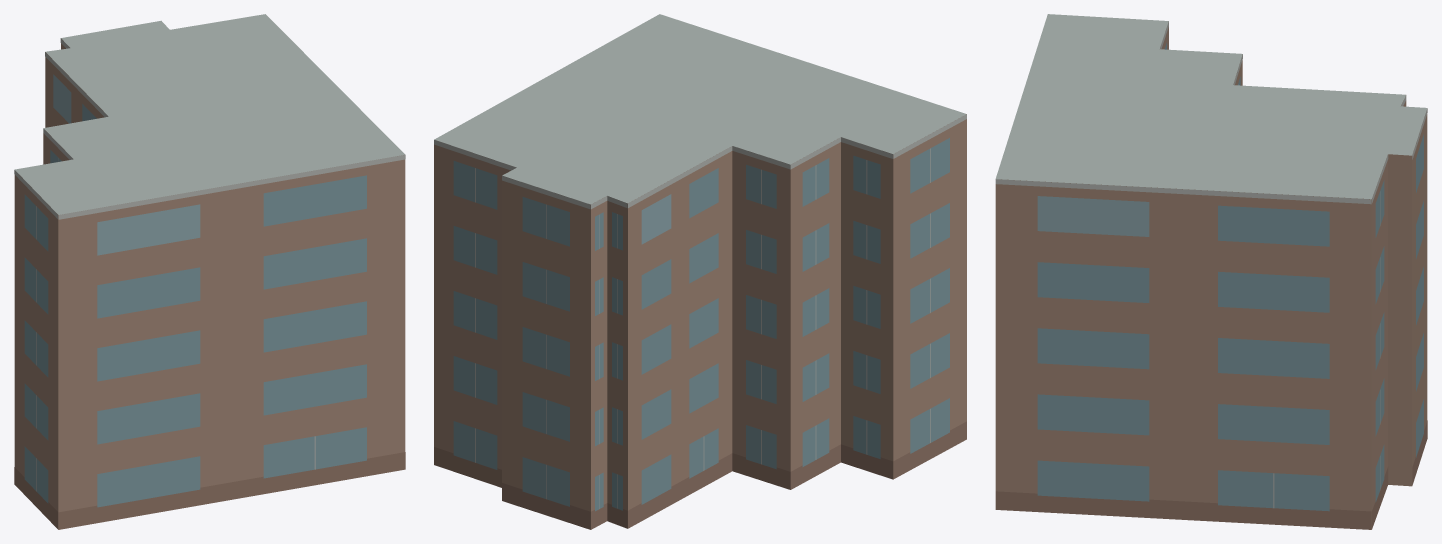
The model's file is survey-upis-32584537.glb.
The picture shows the model from 3 angles, left to right: view 1: azimuth 30°, elevation 25°; view 2: azimuth 150°, elevation 25°; view 3: azimuth 270°, elevation 25°; orthographic projection. The views are drawn at different scales.
Visible parts, largest first — view 1: survey-upis-32584537.tmp; view 2: survey-upis-32584537.tmp; view 3: survey-upis-32584537.tmp.
Part boxes in pixels (x1=…): survey-upis-32584537.tmp: x1=14, y1=14, x2=405, y2=529; survey-upis-32584537.tmp: x1=434, y1=14, x2=966, y2=529; survey-upis-32584537.tmp: x1=995, y1=14, x2=1427, y2=529.
Size of the model in its own units: 19.35 by 16.1 by 19.07.
